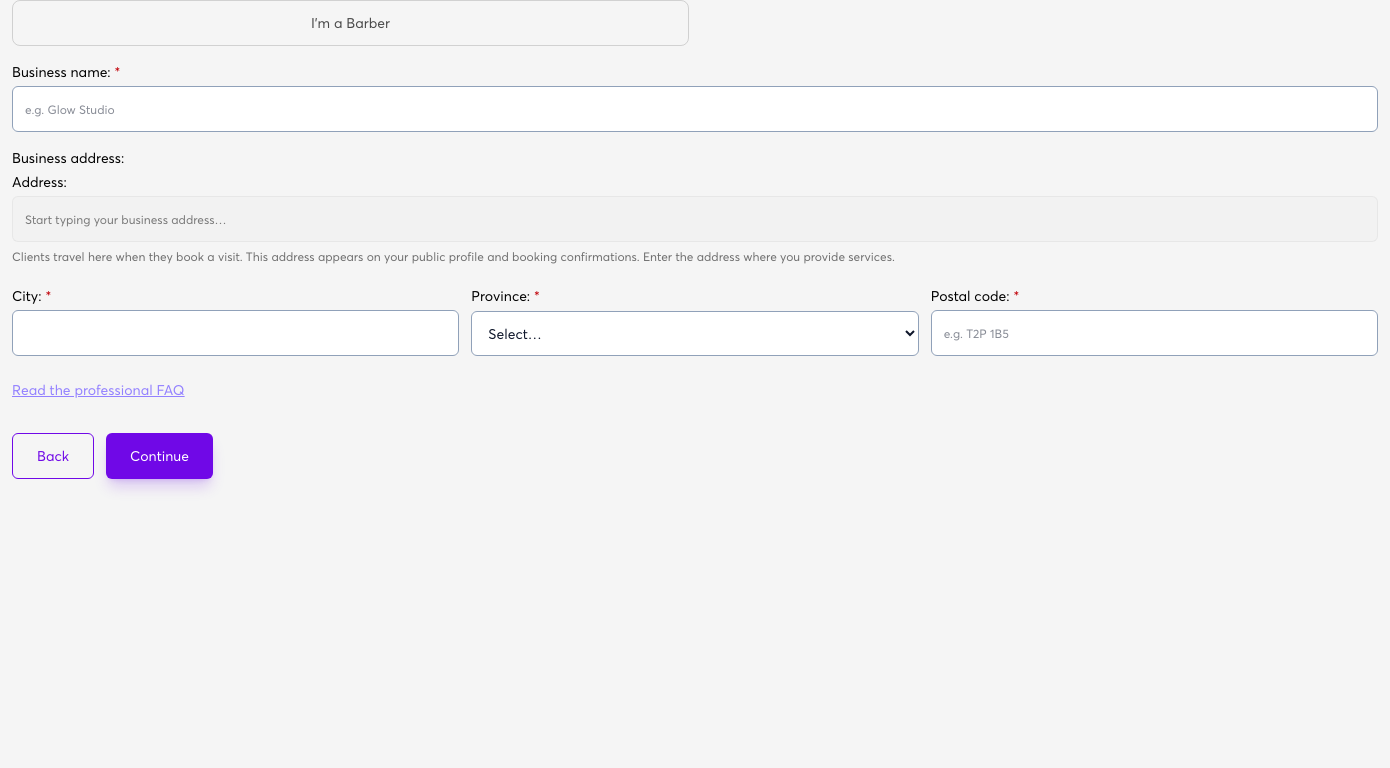
Test: refuses a city with digits, a non-Canadian postal code and no province
Click the radio button labelled "I'm a Barber": [350, 23] box [12, 0, 689, 46]
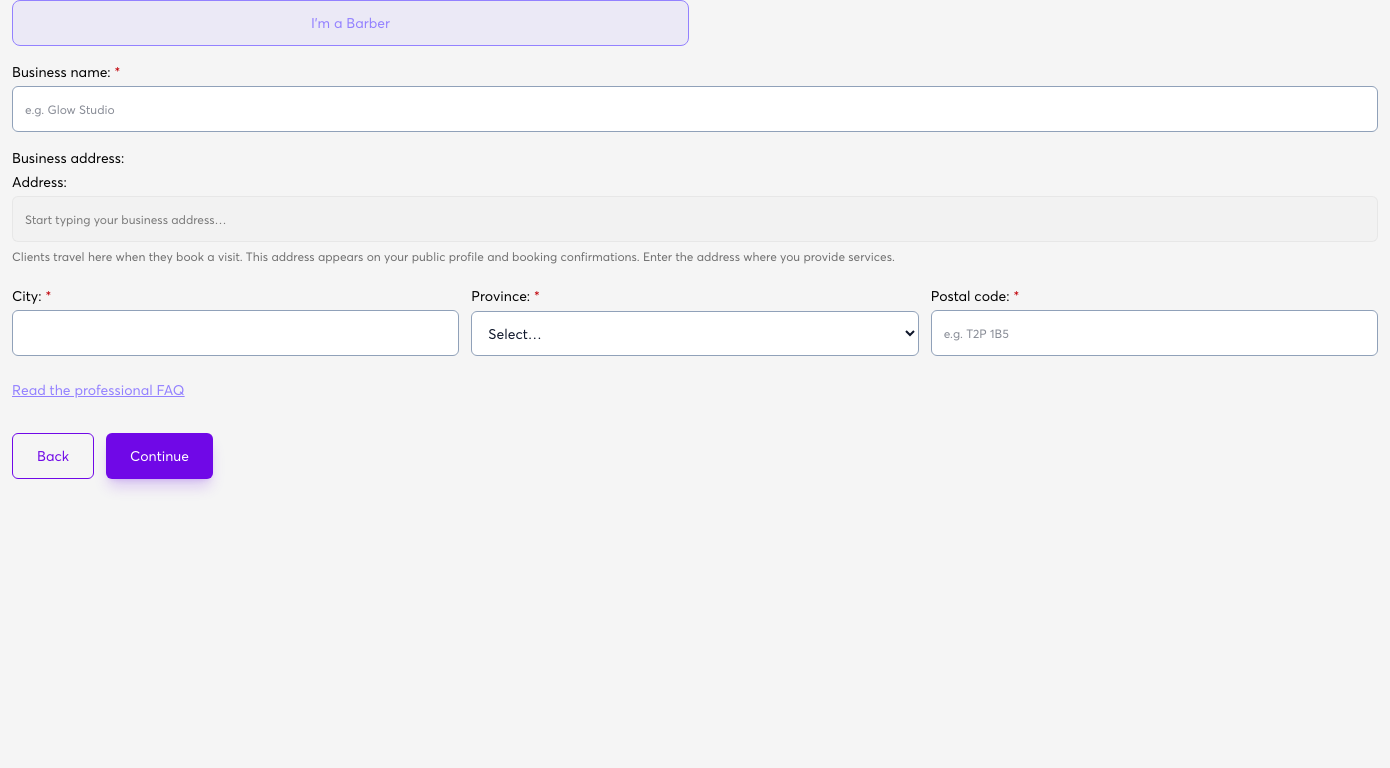
In the field labelled "Business name:": [695, 109] box [12, 86, 1378, 132], type "Ada Studio"
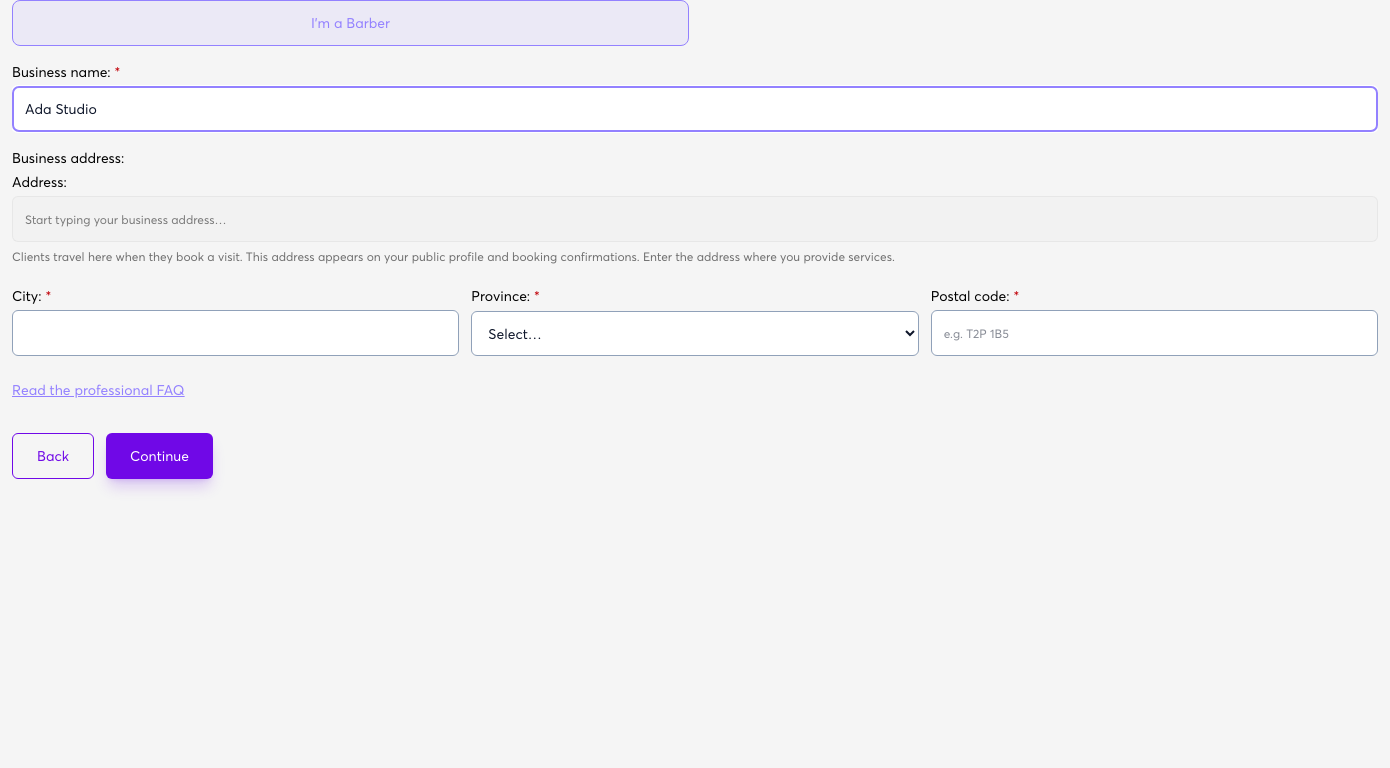
In the field labelled "City:": [236, 333] box [12, 310, 459, 356], type "Calgary1"
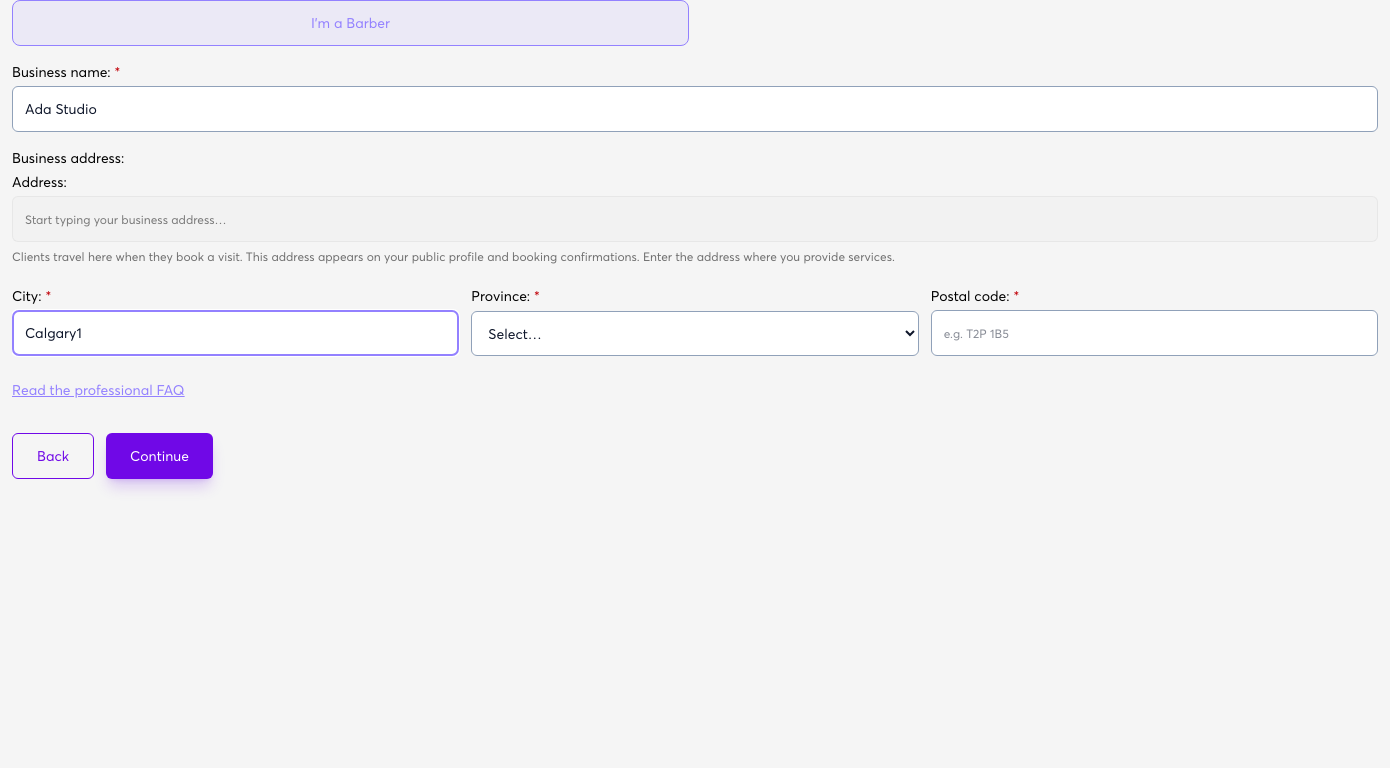
In the field labelled "Postal code:": [1154, 333] box [931, 310, 1378, 356], type "90210"
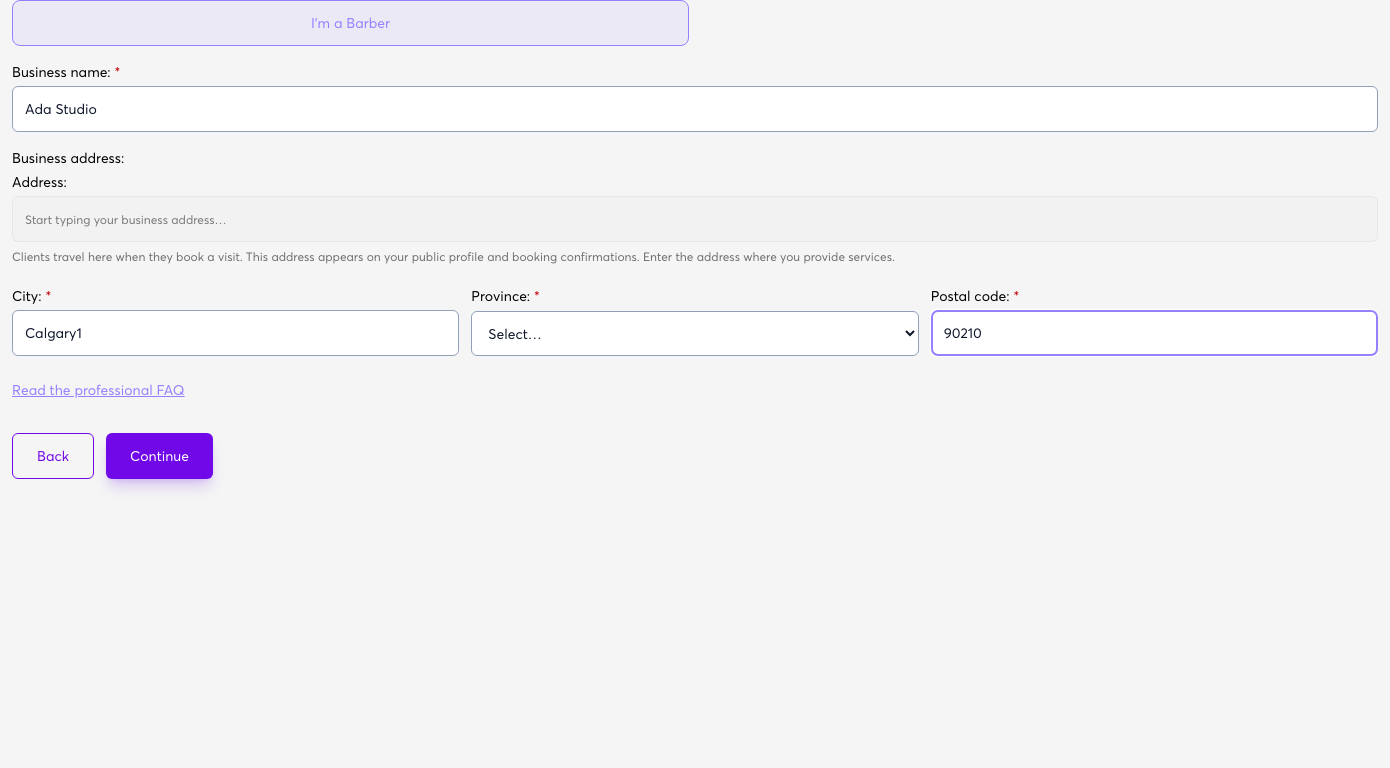
Click the button "Continue": [160, 456] box [106, 432, 213, 478]
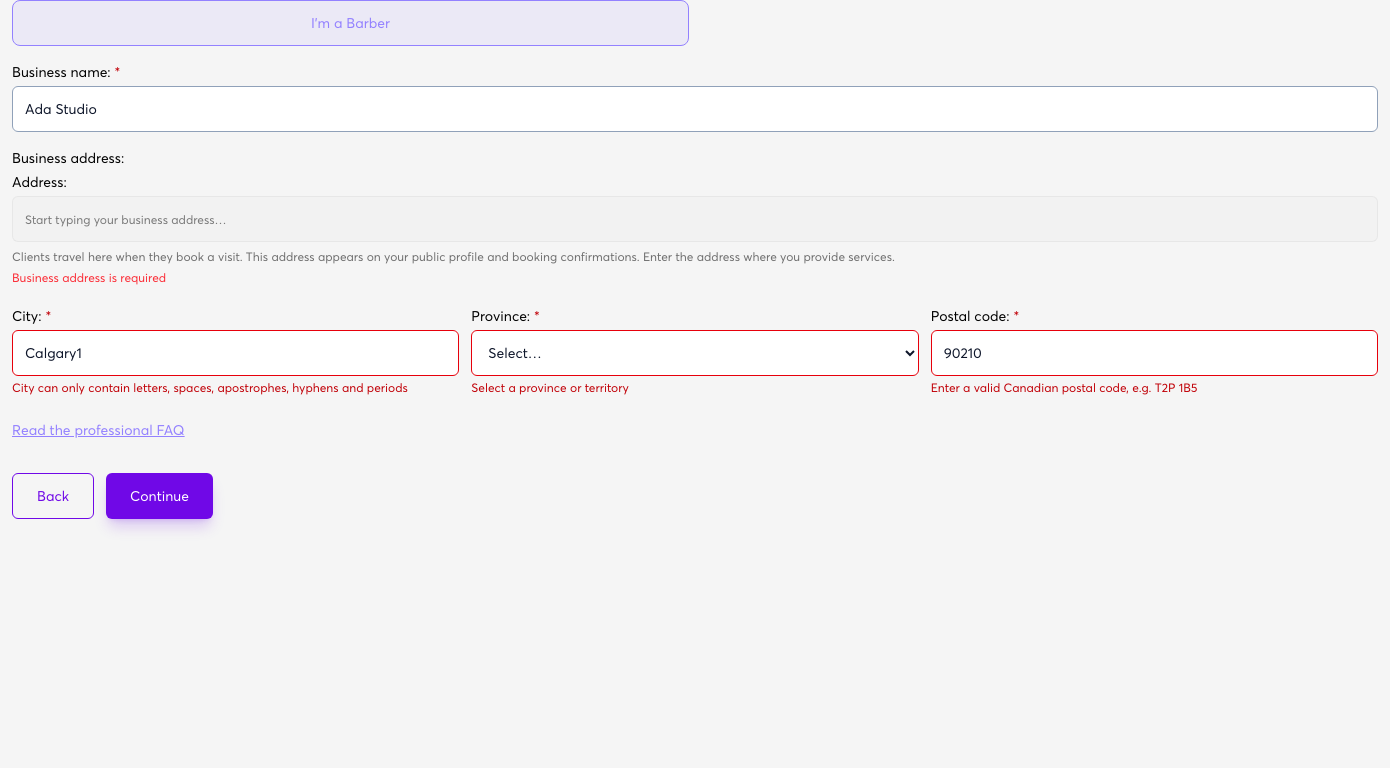
Now the text "City can only contain letters, spaces, apostrophes, hyphens and periods" is shown, box [12, 380, 459, 396]
Now the text "Enter a valid Canadian postal code, e.g. T2P 1B5" is shown, box [931, 380, 1198, 395]
Now the text "Select a province or territory" is shown, box [471, 380, 629, 395]
